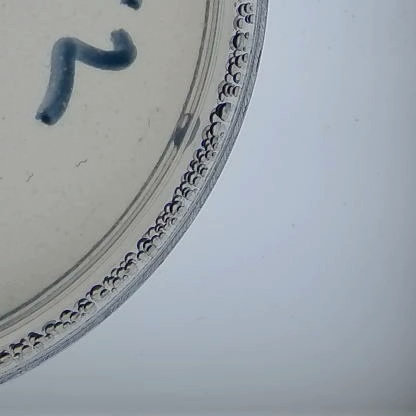worm: (72, 157, 91, 169), (23, 172, 39, 185)
